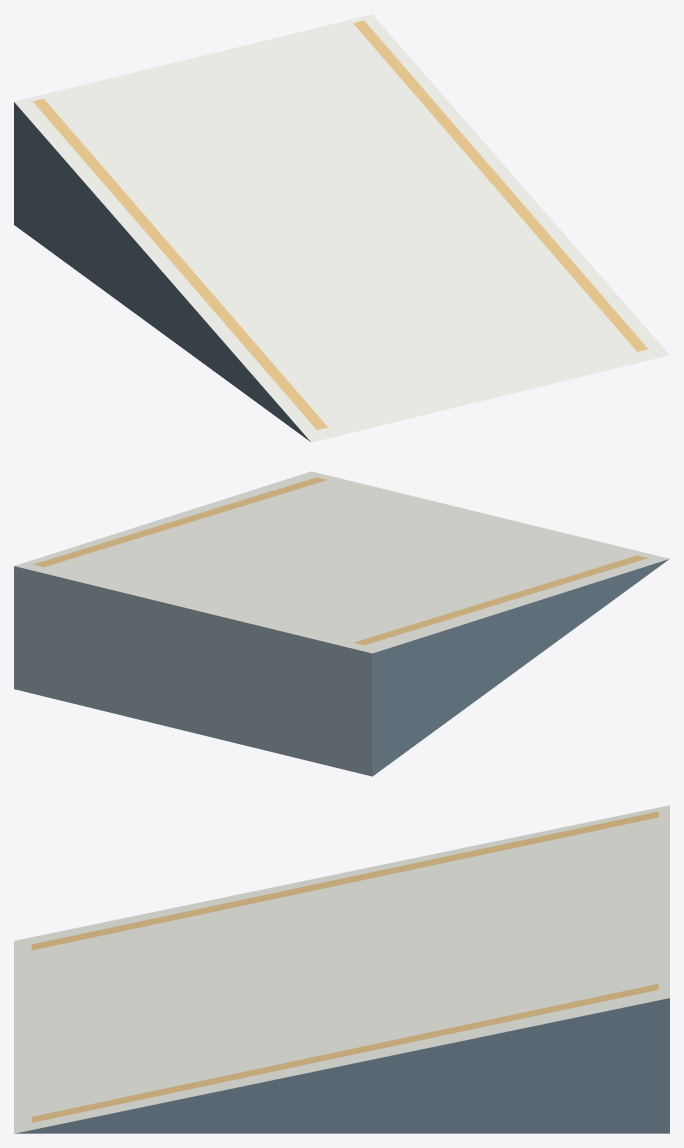
Rendered from ramp.glb.
3 views of the same model, one above another, from view 1: azimuth 30°, elevation 25°; view 2: azimuth 150°, elevation 25°; view 3: azimuth 270°, elevation 25° (orthographic). The views are drawn at different scales.
Visible parts, largest first — view 1: ramp; view 2: ramp; view 3: ramp.
Boxes of the visible parts, bbox=[...] form: ramp: bbox=[14, 14, 669, 442]; ramp: bbox=[14, 471, 669, 776]; ramp: bbox=[14, 805, 669, 1133].
Size of the model in its own units: 3.2 by 1.06 by 4.6.
